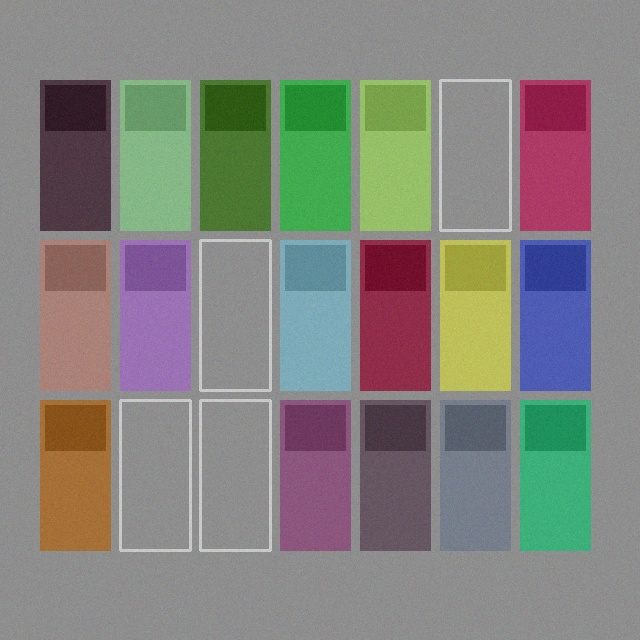space-empty: (440, 80, 510, 230), (200, 240, 270, 390), (120, 400, 190, 550), (200, 400, 270, 550)
space-occupied: (40, 80, 110, 230), (120, 80, 190, 230), (200, 80, 270, 230), (280, 80, 350, 230), (360, 80, 430, 230), (520, 80, 590, 230), (40, 240, 110, 390), (120, 240, 190, 390), (280, 240, 350, 390), (360, 240, 430, 390), (440, 240, 510, 390), (520, 240, 590, 390), (40, 400, 110, 550), (280, 400, 350, 550), (360, 400, 430, 550), (440, 400, 510, 550), (520, 400, 590, 550)
